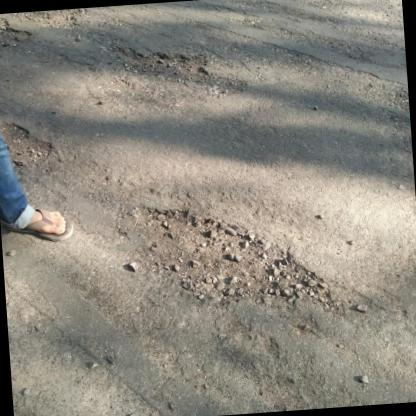pothole: (127, 188, 340, 328), (108, 38, 212, 89), (1, 116, 57, 172), (8, 8, 86, 36), (0, 12, 32, 49)
